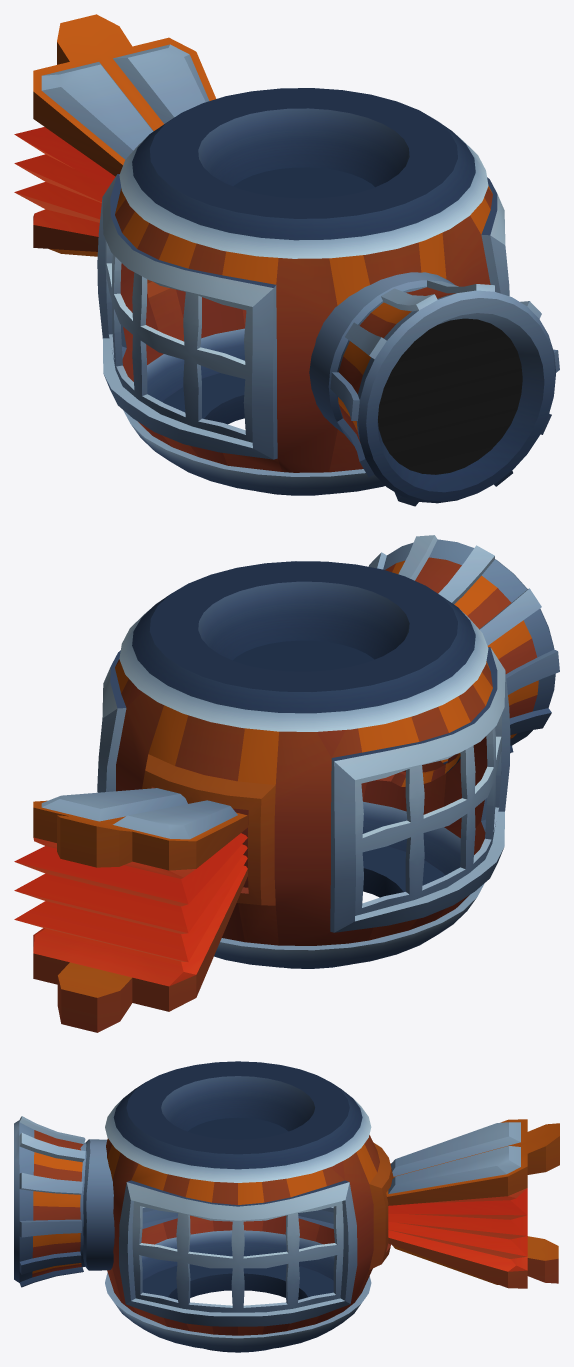
File: ChickenCoopCannon.fbx
3 views of the same model, one above another, from view 1: azimuth 30°, elevation 25°; view 2: azimuth 150°, elevation 25°; view 3: azimuth 270°, elevation 25° (orthographic). The views are drawn at different scales.
Visible parts, largest first — view 1: ChickenLauncher; view 2: ChickenLauncher; view 3: ChickenLauncher.
Boxes of the visible parts, left/top/right/bottom form: ChickenLauncher: left=14, top=14, right=559, bottom=506; ChickenLauncher: left=14, top=535, right=559, bottom=1032; ChickenLauncher: left=14, top=1061, right=559, bottom=1352.
Size of the model in its own units: 509 by 413 by 957.
